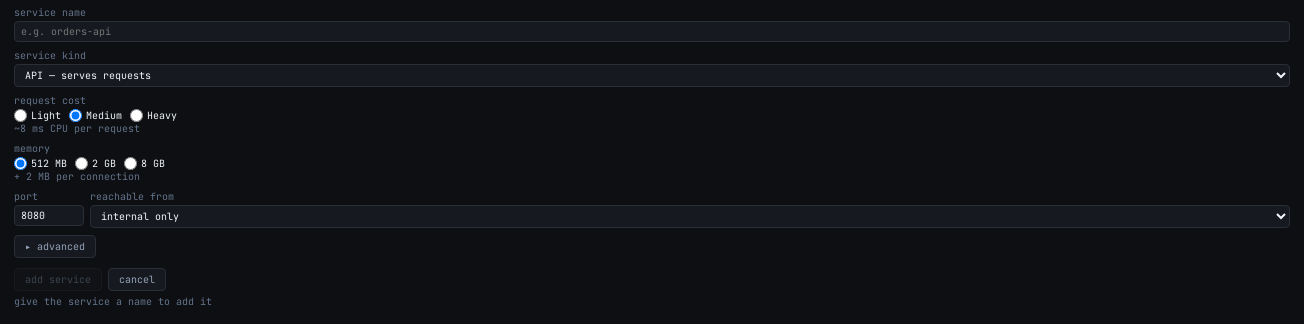
it: AddServiceForm › will not submit without a name
Check: the button "add service" is disabled, box [14,268,102,291]
Type "api" into the field labelled "service name" at (652, 32), box [14,21,1290,42]
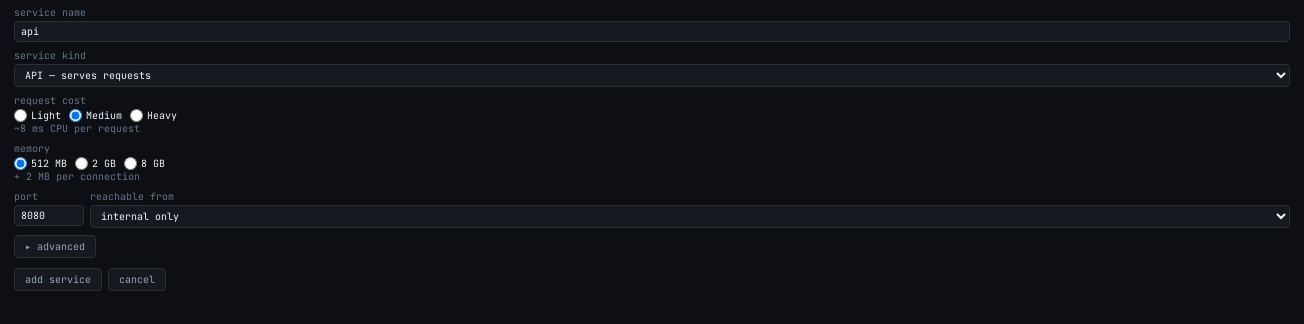
Check: the button "add service" is enabled, box [14,268,102,291]
